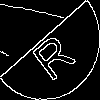R: (25, 25, 77, 83)
